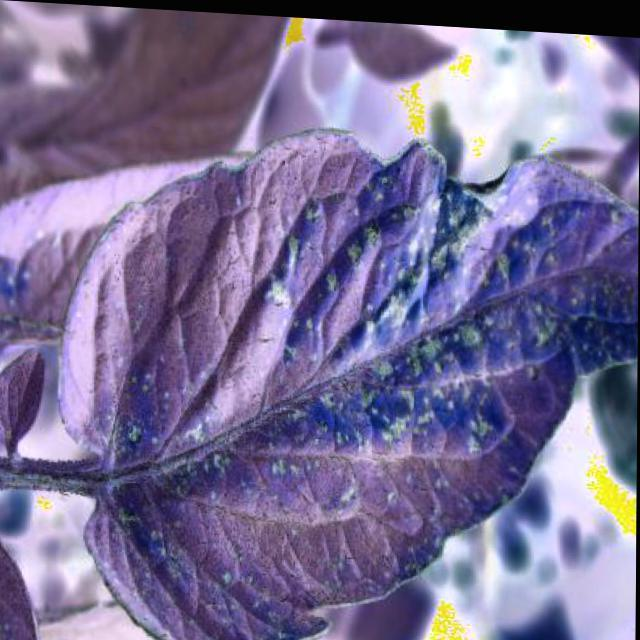Tomato late blight leaf: (52, 125, 638, 639)
